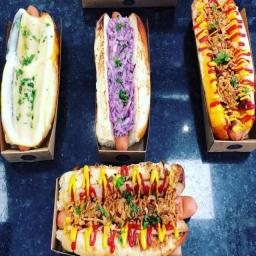hotdog: (52, 160, 198, 256), (190, 0, 255, 146), (89, 12, 151, 156)
